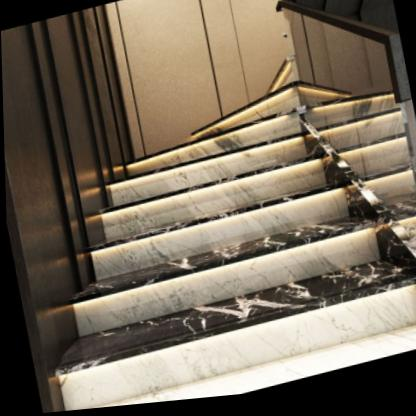Ceramic floor: (56, 291, 416, 412)
